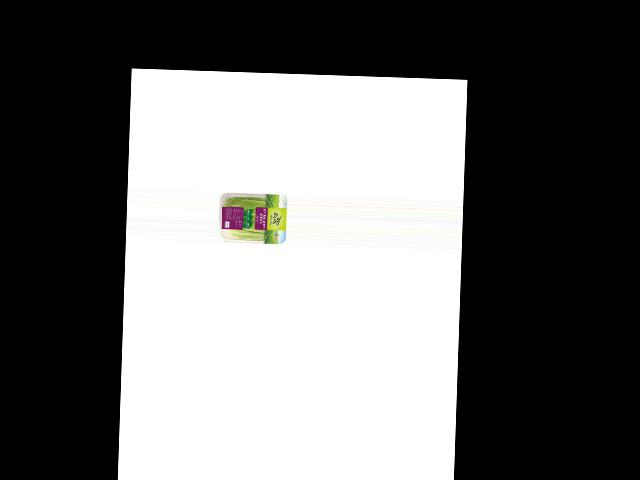lettuce: (217, 192, 282, 245)
